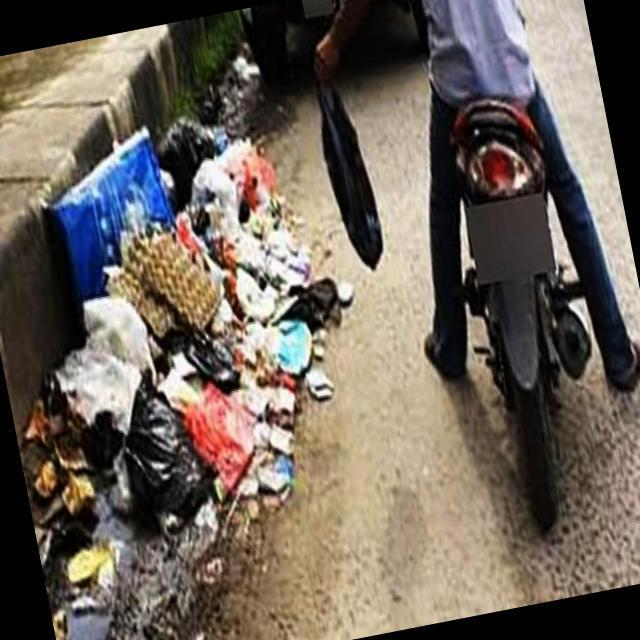garbage: (54, 82, 391, 532), (3, 334, 187, 616), (300, 49, 398, 290)
